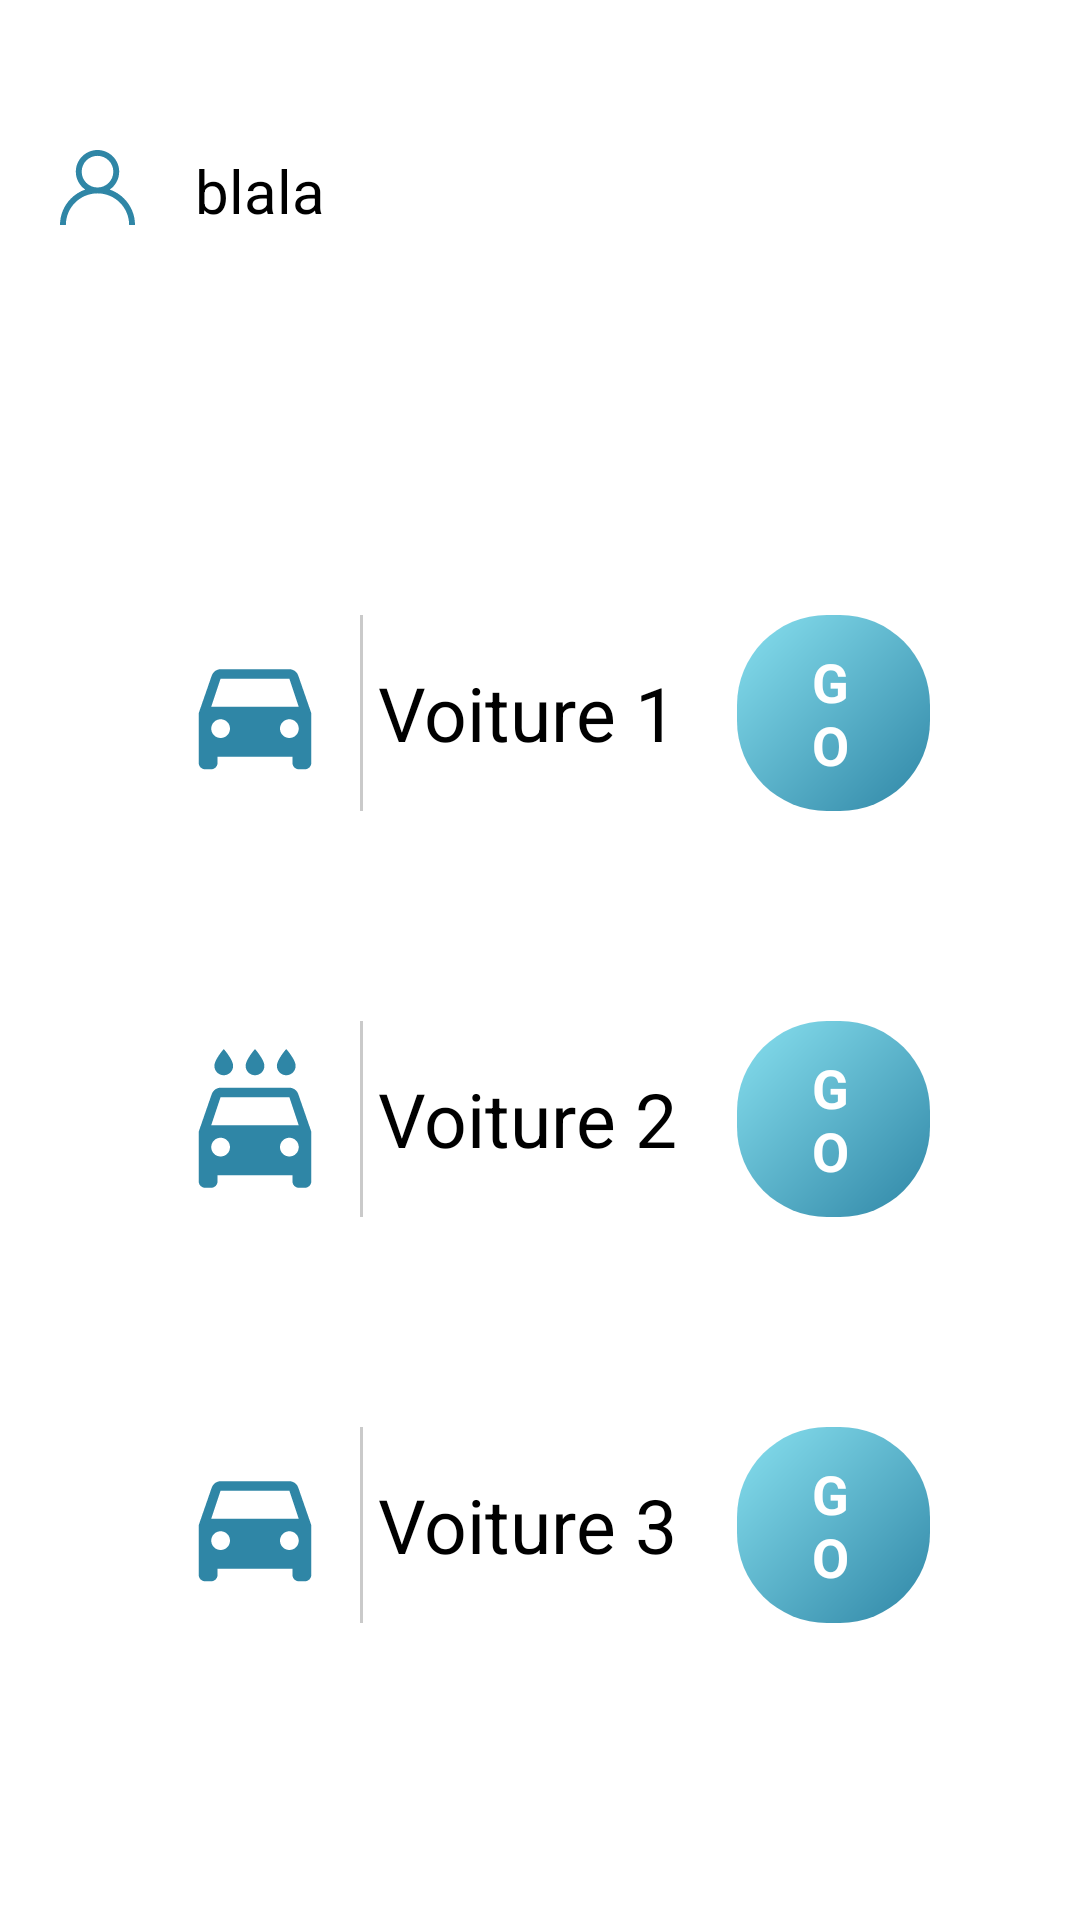

Icons on this 1080 x 1920 Android screen, each with its box as (x1, y1, x2, y2):
directions car: (198, 669, 312, 770), (198, 1481, 312, 1582)
local car wash: (198, 1049, 312, 1188)
user: (60, 150, 135, 225)
